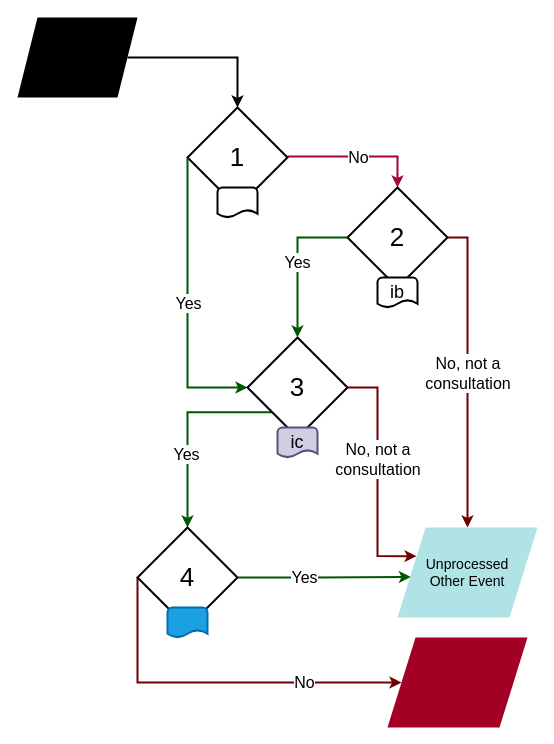
This 554x744 diagram has some shape labels left out. The centre of each missing label's shape, as x and y in pixels:
"Consultation table" goes at pixel 77 57.
"ia" goes at pixel 237 202.
"id" goes at pixel 187 622.
"Unprocessed Consultation Event" goes at pixel 457 682.
